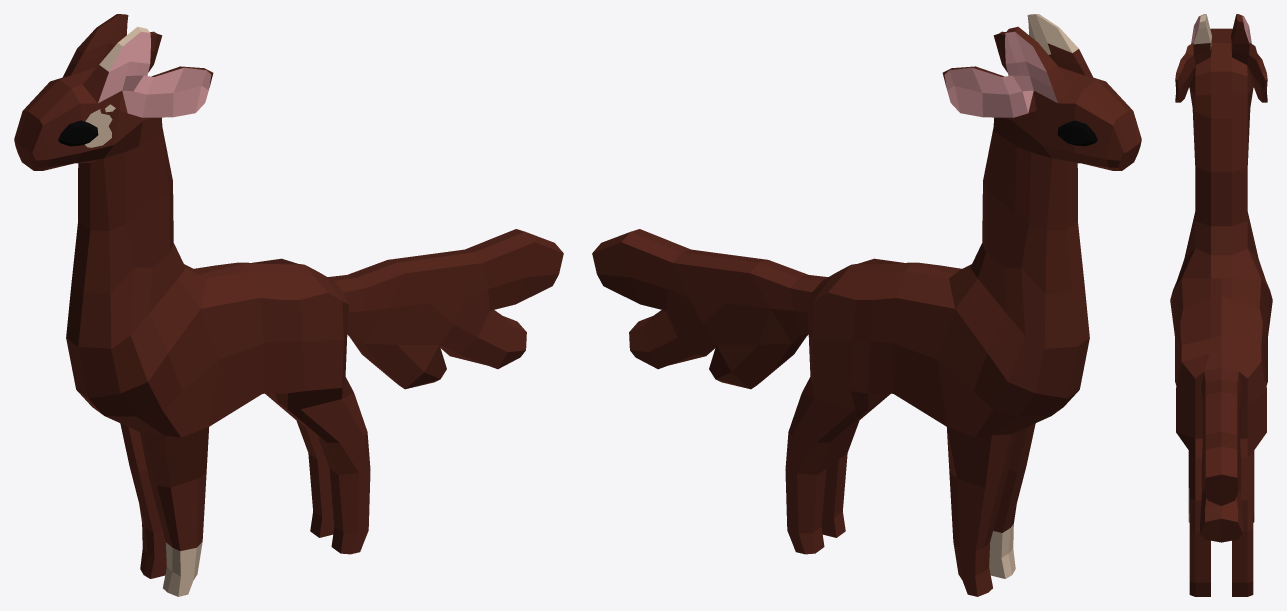
Rendered from AmmonieModel (no rig).fbx.
3 views of the same model, side by side, from view 1: azimuth 30°, elevation 25°; view 2: azimuth 150°, elevation 25°; view 3: azimuth 270°, elevation 25° (orthographic). The views are drawn at different scales.
Parts seen in each view (by area): view 1: AGDHADVh; view 2: AGDHADVh; view 3: AGDHADVh.
Boxes of the visible parts, x1,y1,x2,y2 form: AGDHADVh: (14,14,563,596); AGDHADVh: (592,14,1141,596); AGDHADVh: (1170,14,1272,596).
Bounding box in the file's own units: 429 × 439 × 83.24.
